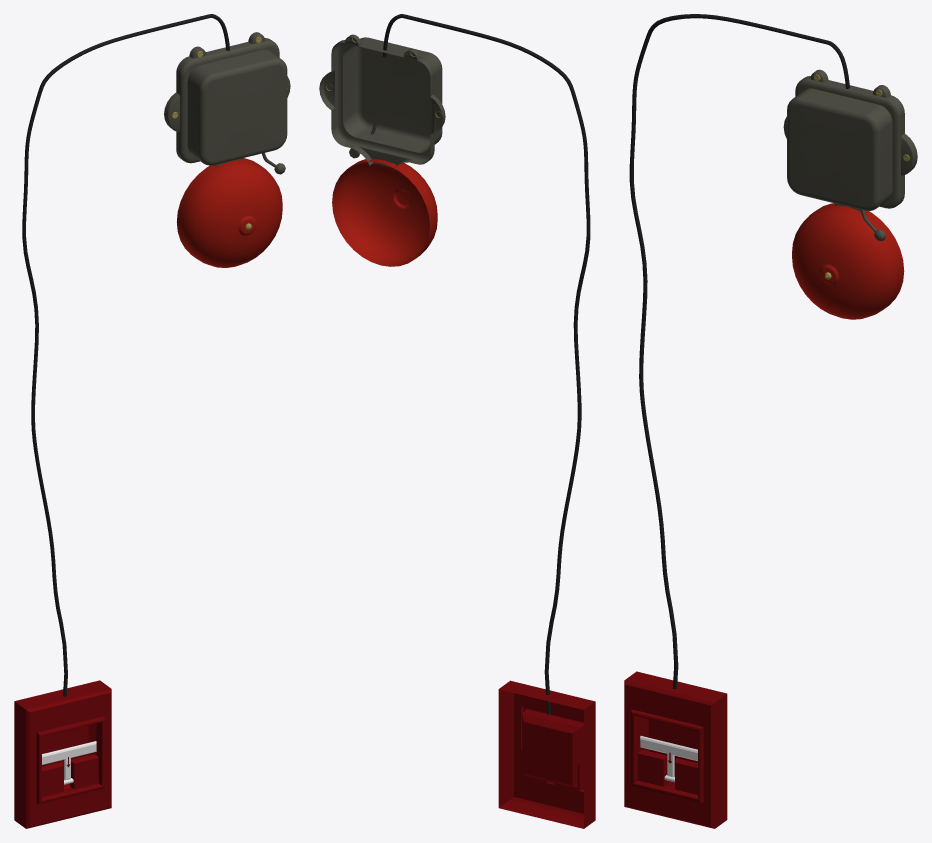
File: Fire_Alarm.fbx
3 renders of one model, left to right at view 1: azimuth 30°, elevation 25°; view 2: azimuth 150°, elevation 25°; view 3: azimuth 330°, elevation 25°, orthographic. The views are drawn at different scales.
Parts seen in each view (by area): view 1: Mechanism_Box, Fire_Alarm_Handle_Casing, Bell, Alarm_Cable, Handle; view 2: Mechanism_Box, Fire_Alarm_Handle_Casing, Bell, Alarm_Cable; view 3: Mechanism_Box, Fire_Alarm_Handle_Casing, Bell, Alarm_Cable, Handle.
Boxes of the visible parts, x1,y1,x2,y2 form: Mechanism_Box: (164, 32, 290, 166); Fire_Alarm_Handle_Casing: (14, 680, 111, 828); Bell: (177, 158, 282, 267); Alarm_Cable: (22, 14, 229, 696); Handle: (42, 741, 96, 784); Mechanism_Box: (319, 34, 445, 170); Fire_Alarm_Handle_Casing: (498, 680, 595, 828); Bell: (332, 159, 437, 266); Alarm_Cable: (383, 14, 590, 714); Mechanism_Box: (783, 69, 917, 211); Fire_Alarm_Handle_Casing: (624, 671, 727, 828); Bell: (792, 203, 904, 319); Alarm_Cable: (629, 14, 849, 688); Handle: (640, 736, 697, 782).
Bounding box in the file's own units: 54.91 × 149 × 10.07.
